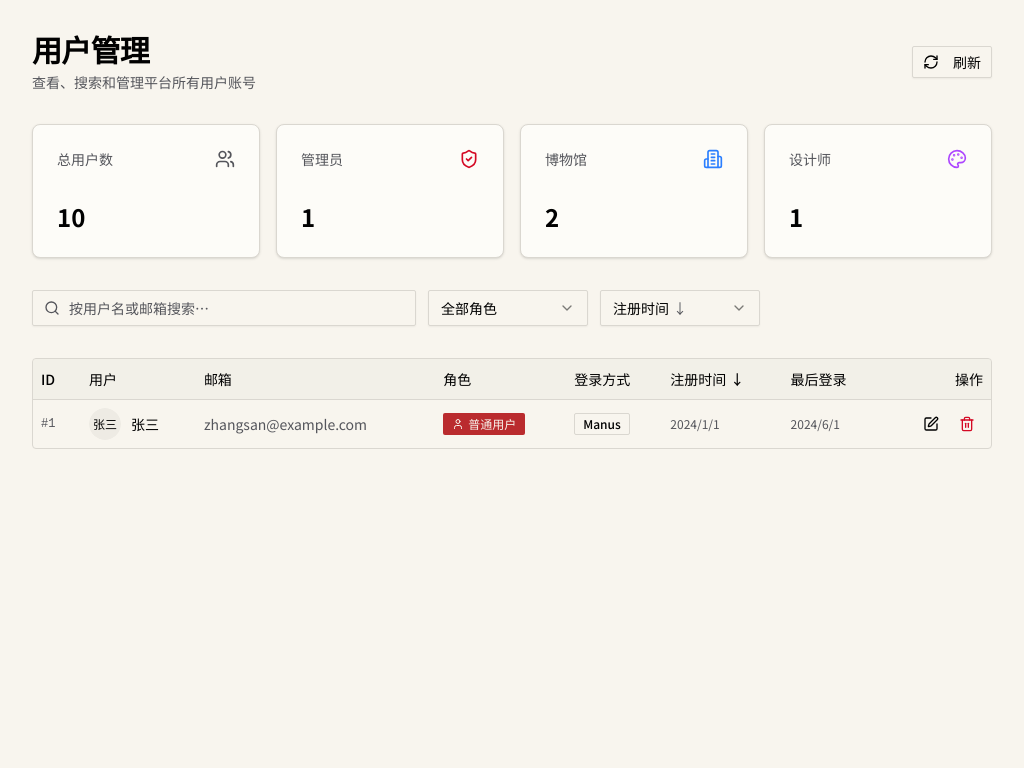
P1：用户管理前端组件测试 › 4. 交互行为 › TC-FE-20：点击删除按钮应打开 AlertDialog（显示"确认删除用户？"）
Step 1. Click the button titled "删除用户" → (967, 424), box [951, 408, 983, 440]
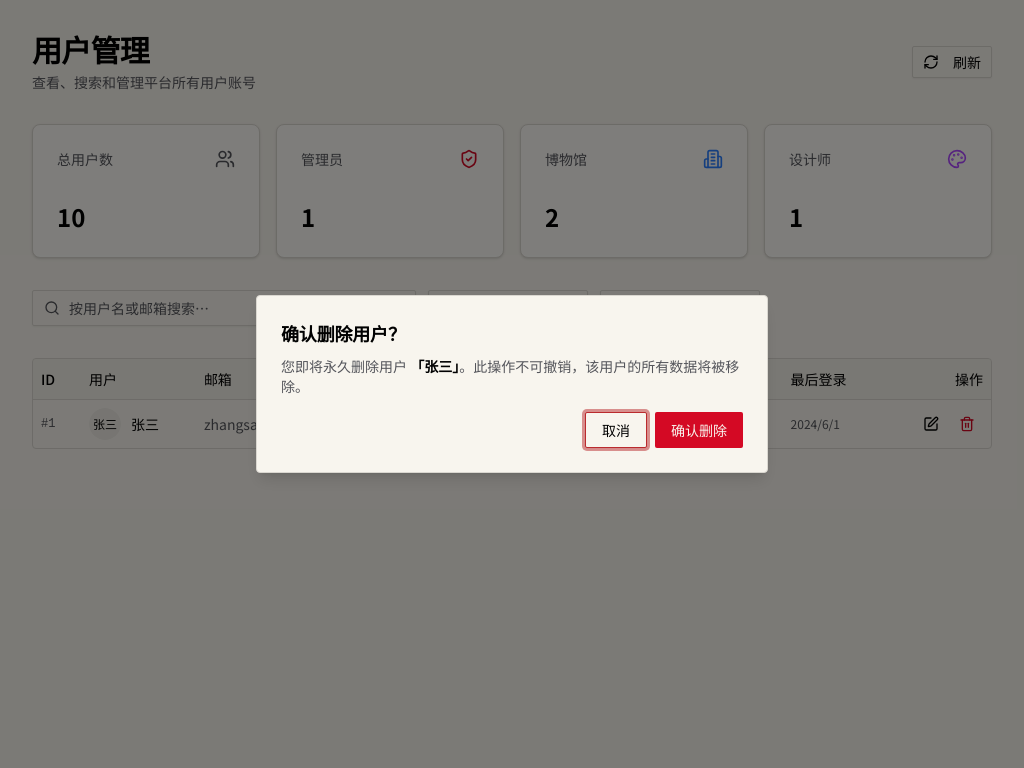
Now the heading "确认删除用户？" is shown, box [281, 322, 406, 346]
